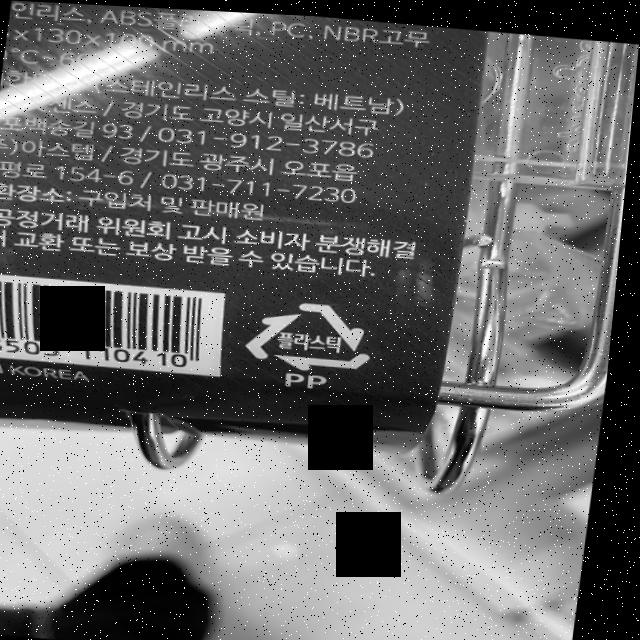Plastic: (242, 289, 387, 375)
